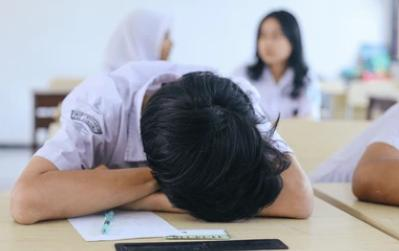sleep: (10, 64, 312, 224)
